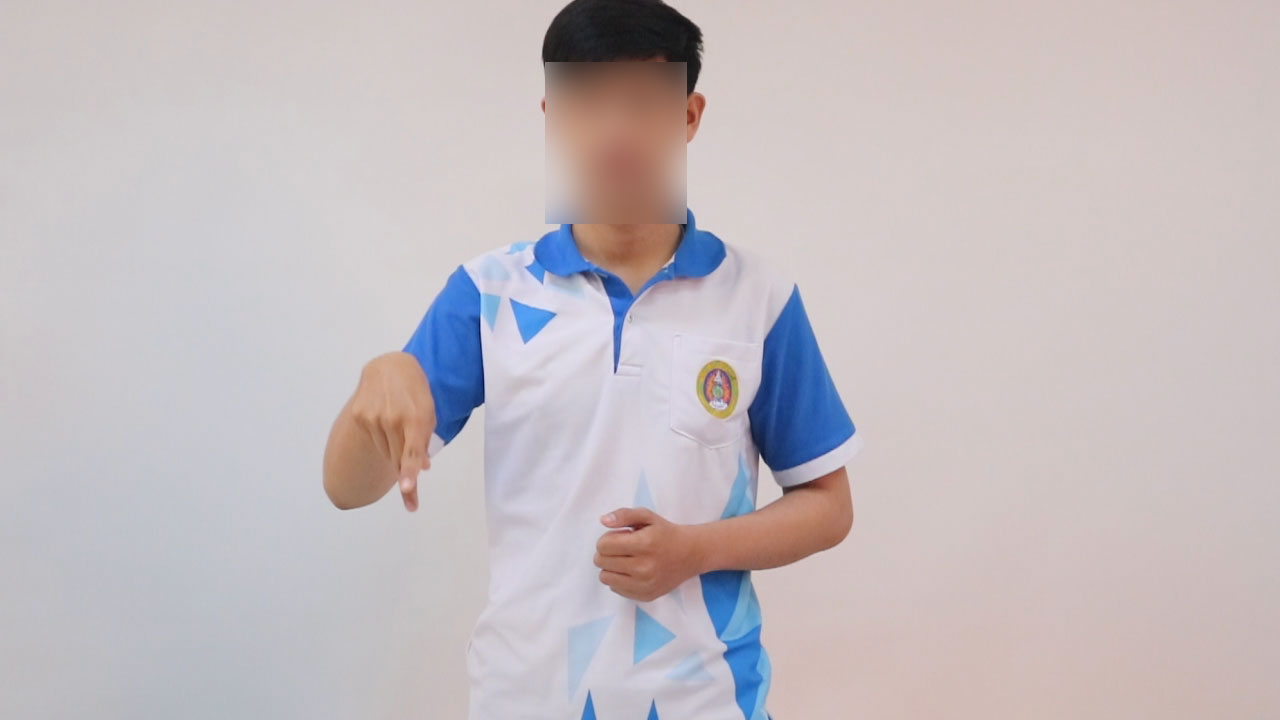por: (345, 336, 447, 524)
